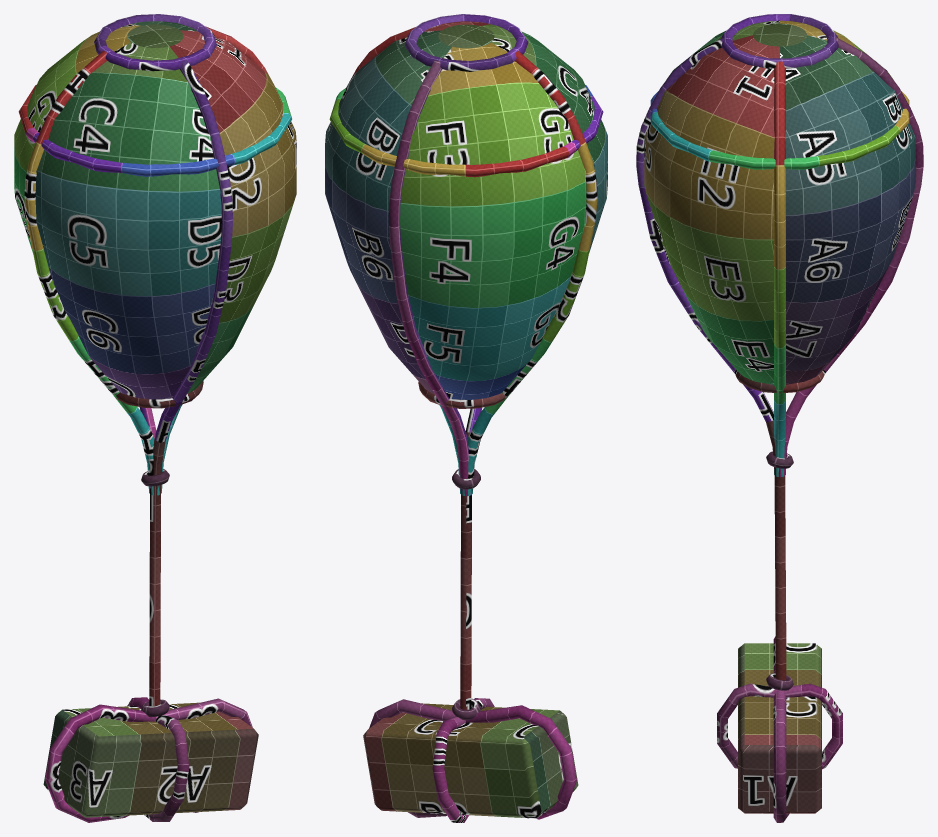
The model's file is balloon_01.fbx.
The picture shows the model from 3 angles, left to right: view 1: azimuth 30°, elevation 25°; view 2: azimuth 150°, elevation 25°; view 3: azimuth 270°, elevation 25°; orthographic projection. The views are drawn at different scales.
Parts seen in each view (by area): view 1: balloon.001, rope, package.001; view 2: balloon.001, rope, package.001; view 3: balloon.001, rope, package.001.
Boxes of the visible parts, box(x1,y1,x2,y2) form: balloon.001: box(14, 21, 296, 399); rope: box(18, 14, 291, 822); package.001: box(43, 702, 258, 817); balloon.001: box(325, 21, 607, 399); rope: box(329, 14, 603, 822); package.001: box(363, 703, 578, 818); balloon.001: box(644, 20, 915, 384); rope: box(636, 14, 923, 822); package.001: box(738, 643, 821, 813).
Size of the model in its own units: 1.55 by 1.55 by 4.54.
